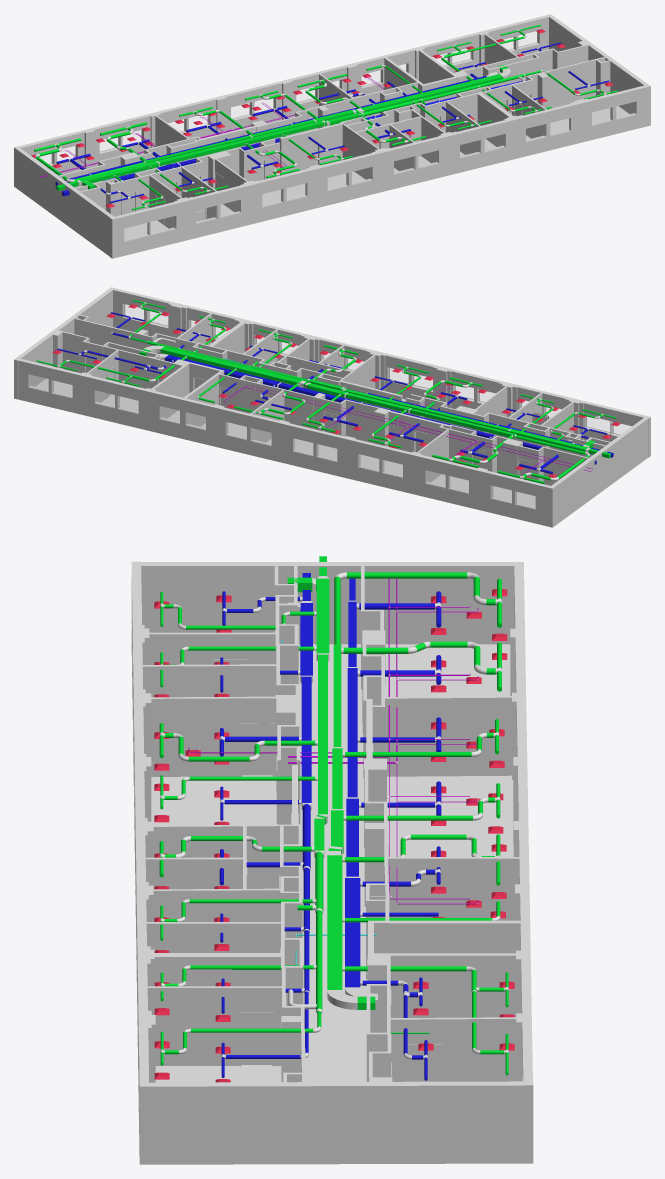
The model's file is asset.glb.
The picture shows the model from 3 angles, top to bottom: view 1: azimuth 30°, elevation 25°; view 2: azimuth 150°, elevation 25°; view 3: azimuth 270°, elevation 25°; orthographic projection. The views are drawn at different scales.
Visible parts, largest first — view 1: IfcWallStandardCase/Basic Wall:Wall-1:350621, IfcWallStandardCase/Basic Wall:Wall-1:351675, IfcWallStandardCase/Basic Wall:Wall-1:350402, IfcSlab/Floor:Generic 150mm:353275, IfcWallStandardCase/Basic Wall:Wall-1:351870, IfcWallStandardCase/Basic Wall:Wall-240:357486, IfcWallStandardCase/Basic Wall:Wall-146:354290, IfcFlowSegment/Rectangular Duct:Mitered Elbows / Taps:925085, IfcWallStandardCase/Basic Wall:Wall-146:357320, IfcWallStandardCase/Basic Wall:Wall-146:358601, IfcWallStandardCase/Basic Wall:Wall-146:352908, IfcFlowSegment/Rectangular Duct:Radius Elbows / Tees:924294 (+30 smaller); view 2: IfcWallStandardCase/Basic Wall:Wall-1:351675, IfcWallStandardCase/Basic Wall:Wall-1:350621, IfcWallStandardCase/Basic Wall:Wall-1:350402, IfcSlab/Floor:Generic 150mm:353275, IfcWallStandardCase/Basic Wall:Wall-1:351870, IfcWallStandardCase/Basic Wall:Wall-146:359854, IfcWallStandardCase/Basic Wall:Wall-240:359268, IfcWallStandardCase/Basic Wall:Wall-146:354290, IfcFlowSegment/Rectangular Duct:Radius Elbows / Tees:924294, IfcWallStandardCase/Basic Wall:Wall-146:359307, IfcWallStandardCase/Basic Wall:Wall-146:359203, IfcWallStandardCase/Basic Wall:Wall-240:360594 (+31 smaller); view 3: IfcSlab/Floor:Generic 150mm:353275, IfcWallStandardCase/Basic Wall:Wall-1:351870, IfcWallStandardCase/Basic Wall:Wall-1:350402, IfcWallStandardCase/Basic Wall:Wall-146:360453, IfcWallStandardCase/Basic Wall:Wall-146:354118, IfcWallStandardCase/Basic Wall:Wall-146:352624, IfcWallStandardCase/Basic Wall:Wall-146:359472, IfcWallStandardCase/Basic Wall:Wall-240:360594, IfcWallStandardCase/Basic Wall:Wall-1:350621, IfcWallStandardCase/Basic Wall:Wall-146:360030, IfcWallStandardCase/Basic Wall:Wall-1:351675, IfcWallStandardCase/Basic Wall:Wall-146:352908 (+23 smaller).
Boxes of the visible parts, left/top/right/bottom form: IfcWallStandardCase/Basic Wall:Wall-1:350621: left=110, top=84, right=650, bottom=258; IfcWallStandardCase/Basic Wall:Wall-1:351675: left=18, top=15, right=548, bottom=175; IfcWallStandardCase/Basic Wall:Wall-1:350402: left=14, top=146, right=113, bottom=256; IfcSlab/Floor:Generic 150mm:353275: left=124, top=106, right=629, bottom=239; IfcWallStandardCase/Basic Wall:Wall-1:351870: left=547, top=14, right=648, bottom=113; IfcWallStandardCase/Basic Wall:Wall-240:357486: left=279, top=123, right=342, bottom=175; IfcWallStandardCase/Basic Wall:Wall-146:354290: left=543, top=57, right=605, bottom=108; IfcFlowSegment/Rectangular Duct:Mitered Elbows / Taps:925085: left=158, top=121, right=324, bottom=166; IfcWallStandardCase/Basic Wall:Wall-146:357320: left=111, top=171, right=162, bottom=216; IfcWallStandardCase/Basic Wall:Wall-146:358601: left=426, top=89, right=493, bottom=132; IfcWallStandardCase/Basic Wall:Wall-146:352908: left=340, top=122, right=379, bottom=179; IfcFlowSegment/Rectangular Duct:Radius Elbows / Tees:924294: left=361, top=74, right=503, bottom=112; IfcWallStandardCase/Basic Wall:Wall-1:351675: left=18, top=359, right=550, bottom=526; IfcWallStandardCase/Basic Wall:Wall-1:350621: left=109, top=287, right=650, bottom=457; IfcWallStandardCase/Basic Wall:Wall-1:350402: left=548, top=417, right=648, bottom=527; IfcSlab/Floor:Generic 150mm:353275: left=35, top=378, right=535, bottom=507; IfcWallStandardCase/Basic Wall:Wall-1:351870: left=14, top=289, right=112, bottom=399; IfcWallStandardCase/Basic Wall:Wall-146:359854: left=103, top=346, right=173, bottom=388; IfcWallStandardCase/Basic Wall:Wall-240:359268: left=388, top=410, right=449, bottom=452; IfcWallStandardCase/Basic Wall:Wall-146:354290: left=74, top=318, right=136, bottom=348; IfcFlowSegment/Rectangular Duct:Radius Elbows / Tees:924294: left=160, top=346, right=301, bottom=386; IfcWallStandardCase/Basic Wall:Wall-146:359307: left=345, top=399, right=378, bottom=443; IfcWallStandardCase/Basic Wall:Wall-146:359203: left=439, top=426, right=491, bottom=471; IfcWallStandardCase/Basic Wall:Wall-240:360594: left=151, top=363, right=189, bottom=418; IfcSlab/Floor:Generic 150mm:353275: left=151, top=644, right=513, bottom=1082; IfcWallStandardCase/Basic Wall:Wall-1:351870: left=149, top=1081, right=533, bottom=1164; IfcWallStandardCase/Basic Wall:Wall-1:350402: left=141, top=562, right=523, bottom=644; IfcWallStandardCase/Basic Wall:Wall-146:360453: left=385, top=696, right=511, bottom=776; IfcWallStandardCase/Basic Wall:Wall-146:354118: left=147, top=986, right=281, bottom=1065; IfcWallStandardCase/Basic Wall:Wall-146:352624: left=151, top=696, right=276, bottom=776; IfcWallStandardCase/Basic Wall:Wall-146:359472: left=388, top=857, right=519, bottom=920; IfcWallStandardCase/Basic Wall:Wall-240:360594: left=374, top=953, right=515, bottom=1017; IfcWallStandardCase/Basic Wall:Wall-1:350621: left=131, top=561, right=149, bottom=1164; IfcWallStandardCase/Basic Wall:Wall-146:360030: left=390, top=1017, right=516, bottom=1081; IfcWallStandardCase/Basic Wall:Wall-1:351675: left=514, top=566, right=532, bottom=1081; IfcWallStandardCase/Basic Wall:Wall-146:352908: left=153, top=824, right=302, bottom=888.
Bounding box in the file's own units: 49.65 × 3.65 × 15.86.
